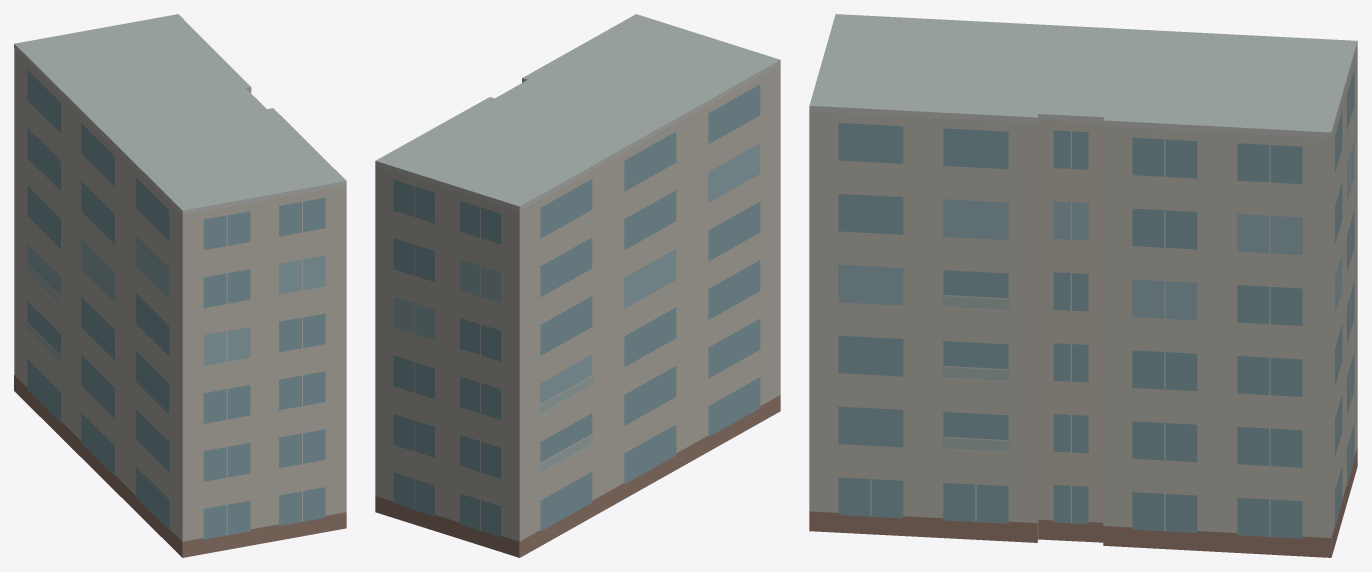
The model's file is survey-upis-32597954.glb.
3 renders of one model, left to right at view 1: azimuth 30°, elevation 25°; view 2: azimuth 150°, elevation 25°; view 3: azimuth 270°, elevation 25°, orthographic. The views are drawn at different scales.
Visible parts, largest first — view 1: survey-upis-32597954.tmp; view 2: survey-upis-32597954.tmp; view 3: survey-upis-32597954.tmp.
Part boxes in pixels (<box>): survey-upis-32597954.tmp: <box>14,14,346,557</box>; survey-upis-32597954.tmp: <box>375,14,780,557</box>; survey-upis-32597954.tmp: <box>809,14,1357,557</box>.
Size of the model in its own units: 10.94 by 18.3 by 21.38.
